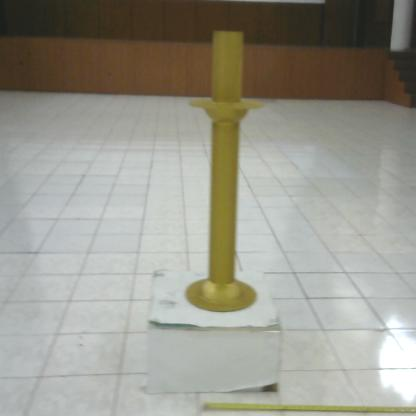pole: (181, 25, 271, 318)
